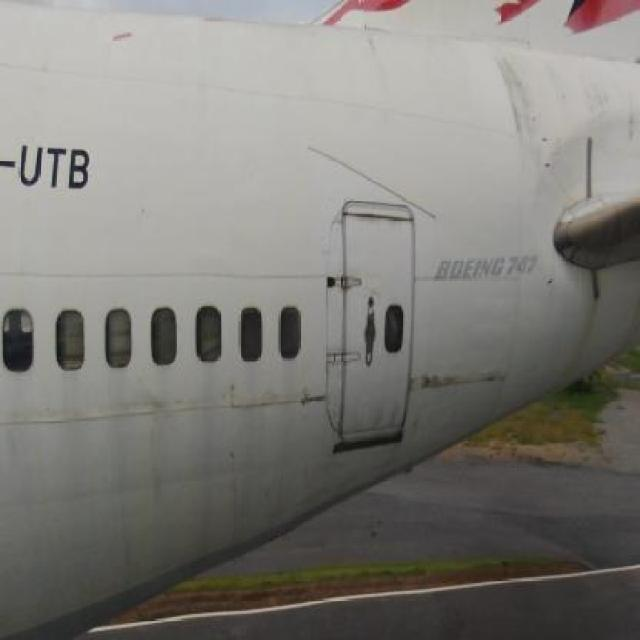Rust: (497, 54, 543, 164), (572, 54, 636, 128), (412, 360, 514, 395), (343, 198, 420, 236), (570, 287, 598, 382), (364, 400, 402, 445)
Scartch: (129, 381, 174, 532), (289, 368, 331, 430), (221, 381, 254, 416)
